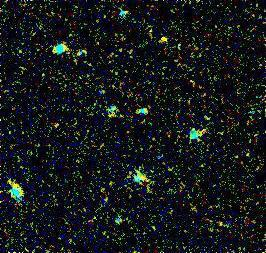star: (148, 24, 178, 54)
